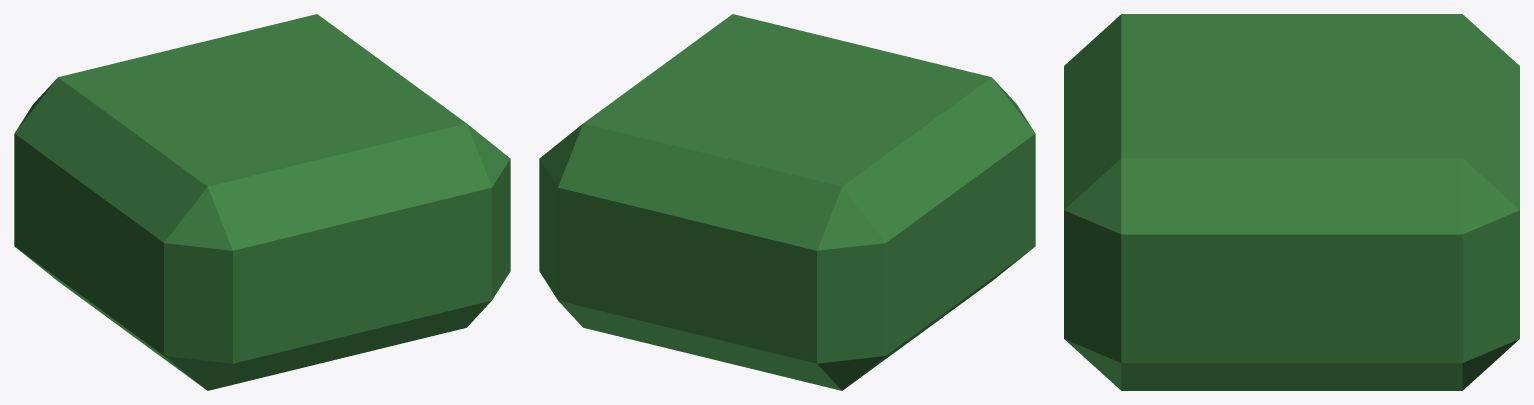
File: m_kub_dung_flat_mini.fbx
The picture shows the model from 3 angles, left to right: view 1: azimuth 30°, elevation 25°; view 2: azimuth 150°, elevation 25°; view 3: azimuth 270°, elevation 25°; orthographic projection. The views are drawn at different scales.
Parts seen in each view (by area): view 1: m_kub_dung_flat_mini; view 2: m_kub_dung_flat_mini; view 3: m_kub_dung_flat_mini.
Part boxes in pixels (x1,y1,x2,y2): m_kub_dung_flat_mini: (14, 14, 510, 390); m_kub_dung_flat_mini: (539, 14, 1035, 390); m_kub_dung_flat_mini: (1064, 14, 1519, 390).
Bounding box in the file's own units: 1.15 × 0.6453 × 1.15.
